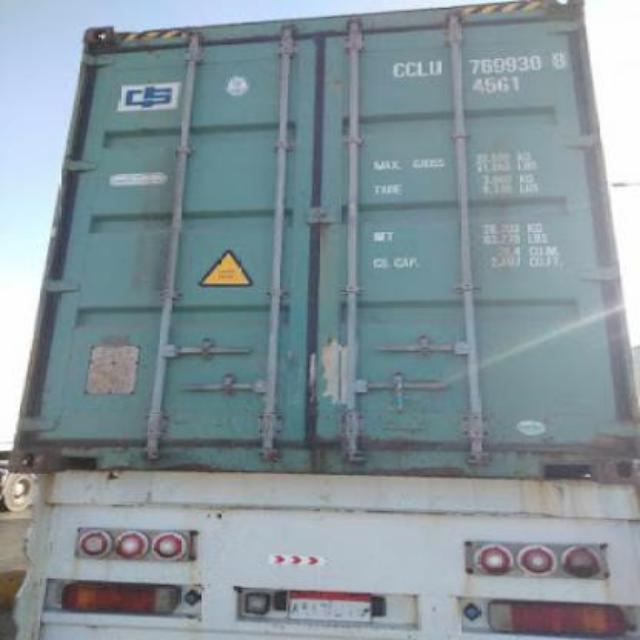0: (530, 52, 544, 72)
3: (518, 55, 532, 71)
6: (480, 55, 492, 75)
7: (470, 57, 482, 75)
8: (548, 54, 568, 70)
9: (504, 56, 518, 74), (491, 56, 504, 74)
C: (392, 58, 406, 78), (408, 60, 416, 78)
L: (416, 60, 429, 76)
U: (428, 59, 442, 77)
